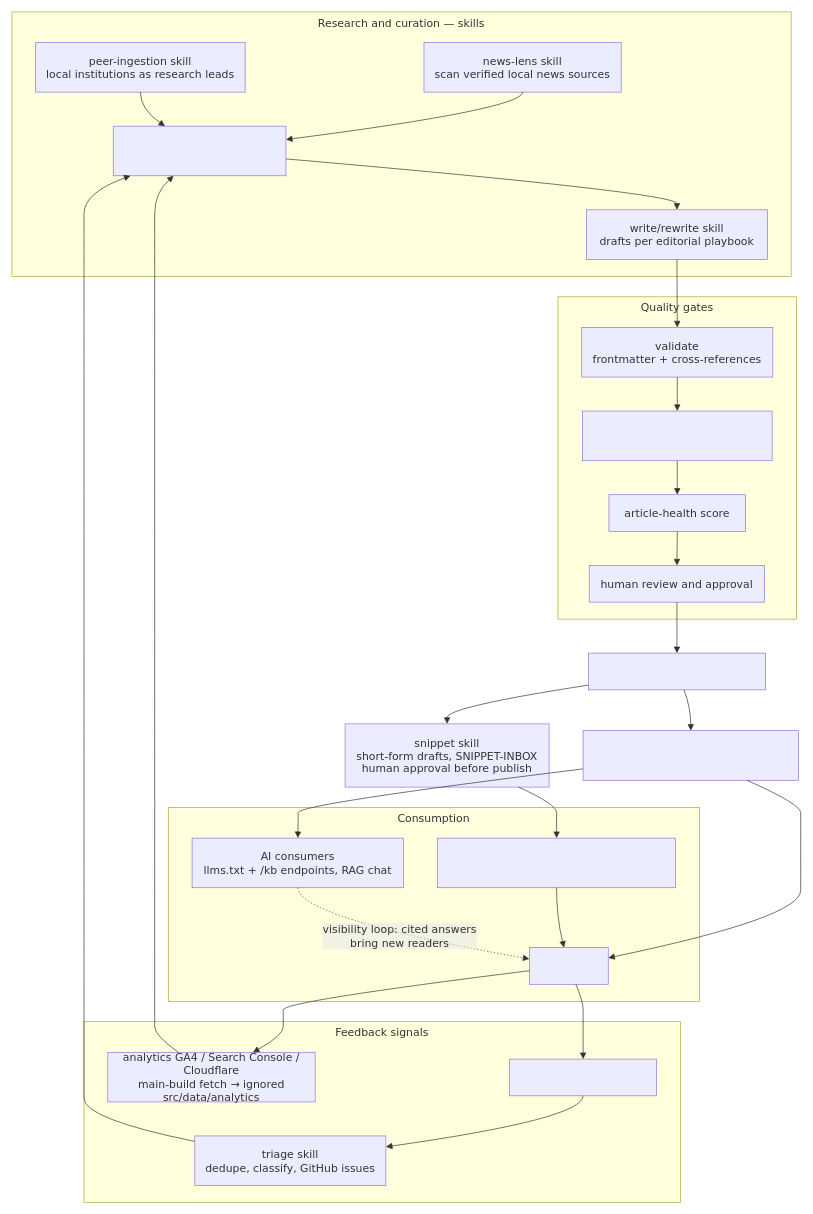
Image size: 813x1214. Some labels were removed from this diagram. Each missing label, with the centre of its shape:
build + deploy via CI genericity gate · smoke · link check: the point at 690,755
factcheck claims audited against sources: the point at 677,435
feedback worker + D1: the point at 583,1077
INBOX.md content-opportunity queue: the point at 199,150
knowledge/ — SSOT commit: the point at 676,671
Readers: the point at 568,965
Social platforms snippets — Phase 6, when accounts exist: the point at 556,862
